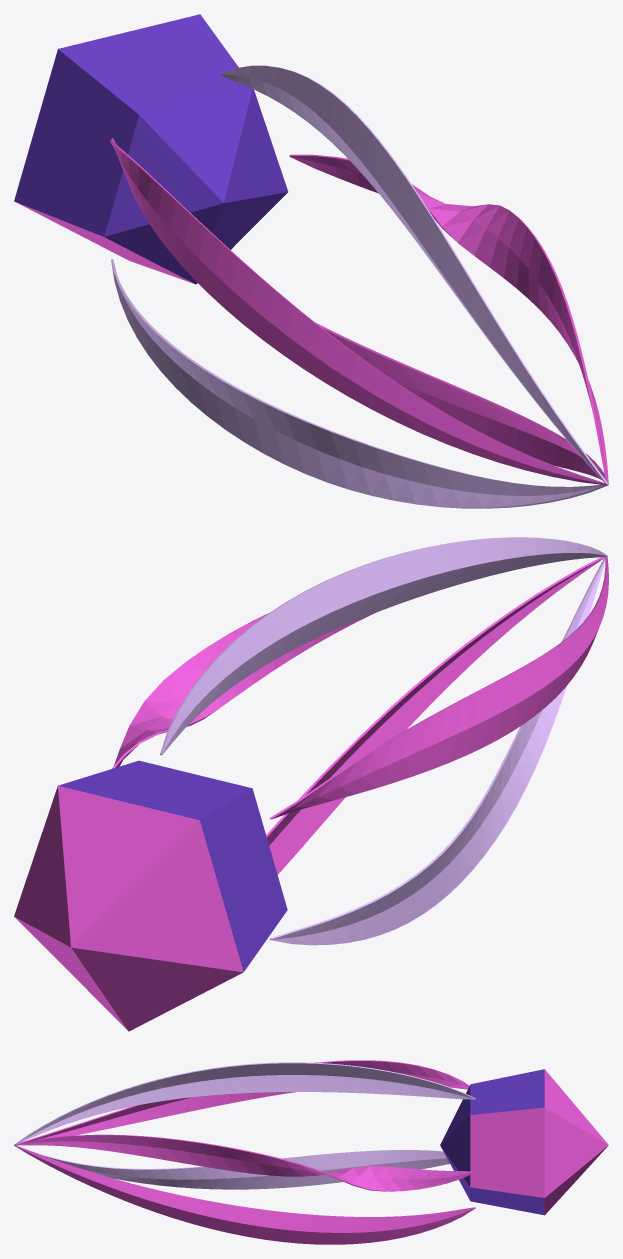
File: VFX_47_CosmicoCometaAstrale.fbx
3 renders of one model, top to bottom at view 1: azimuth 30°, elevation 25°; view 2: azimuth 150°, elevation 25°; view 3: azimuth 270°, elevation 25°, orthographic. The views are drawn at different scales.
Parts seen in each view (by area): view 1: VFX_47_CosmicoCometaAstrale; view 2: VFX_47_CosmicoCometaAstrale; view 3: VFX_47_CosmicoCometaAstrale.
Part boxes in pixels (box(x1,y1,x2,y2)): VFX_47_CosmicoCometaAstrale: box(14, 14, 608, 508); VFX_47_CosmicoCometaAstrale: box(14, 537, 608, 1031); VFX_47_CosmicoCometaAstrale: box(14, 1060, 608, 1244).
Bounding box in the file's own units: 142 × 135 × 426.
1 material, 1 textured.
